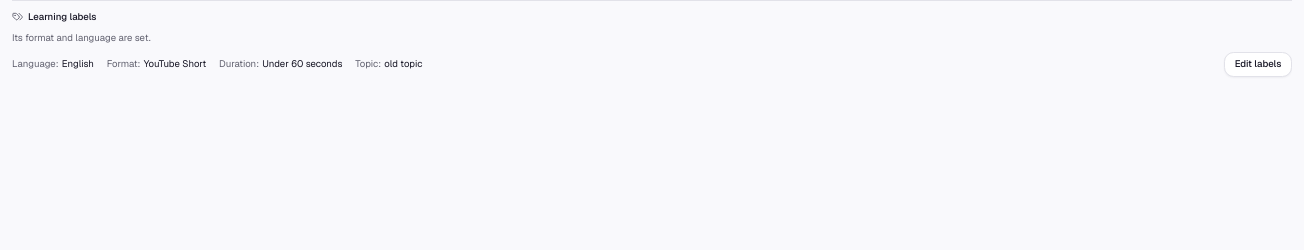
Test: moving an open label editor to another video › lets a late reply for the first video leave the second video's editor alone
Later steps or results of the test are not shown.
Click the button "Edit labels" at {"x": 1258, "y": 64}, box [1224,52,1292,77]
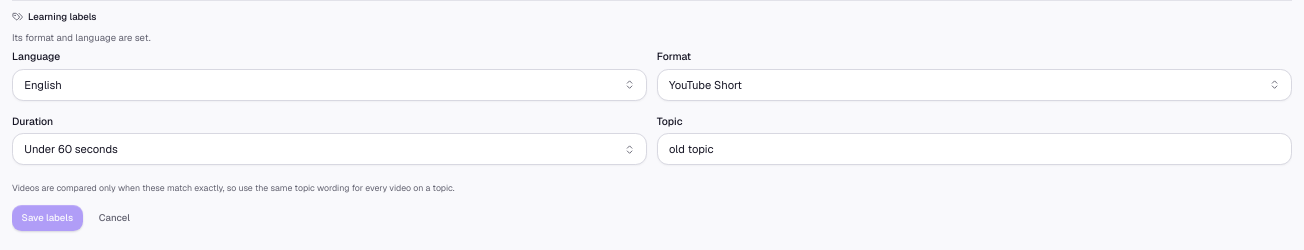
Replace the text in the field labelled "Topic" with "edited first video" at {"x": 974, "y": 149}, box [657,133,1292,165]
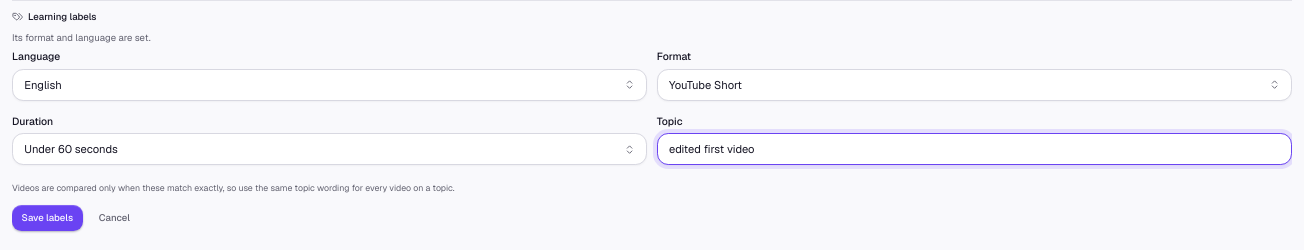
Click the button "Save labels" at {"x": 47, "y": 218}, box [12,205,83,231]
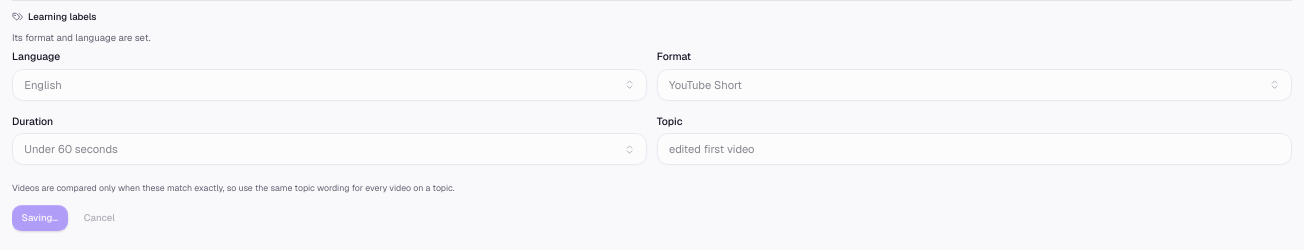
Expected: the button "Saving…" is disabled, [12,205,68,231]
